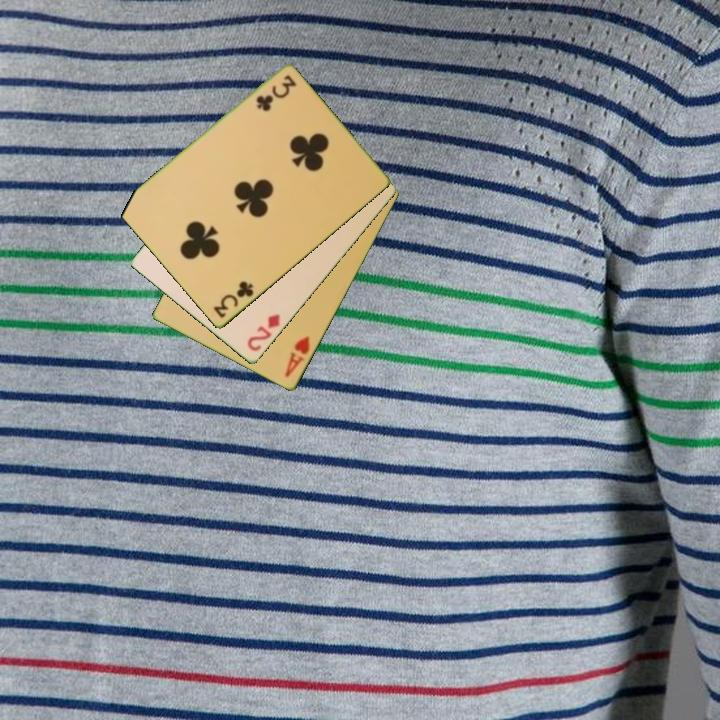2d: (243, 311, 283, 355)
3c: (209, 278, 257, 321), (252, 72, 299, 114)
Ah: (281, 333, 313, 381)
